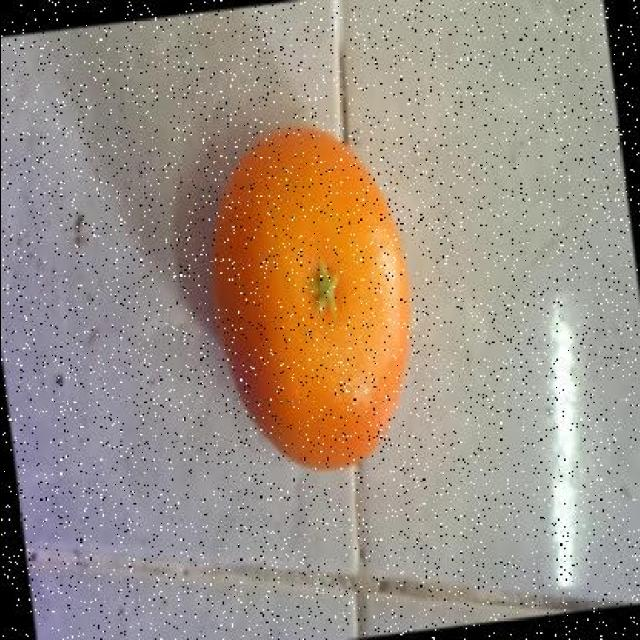Orange: (207, 124, 416, 470)
